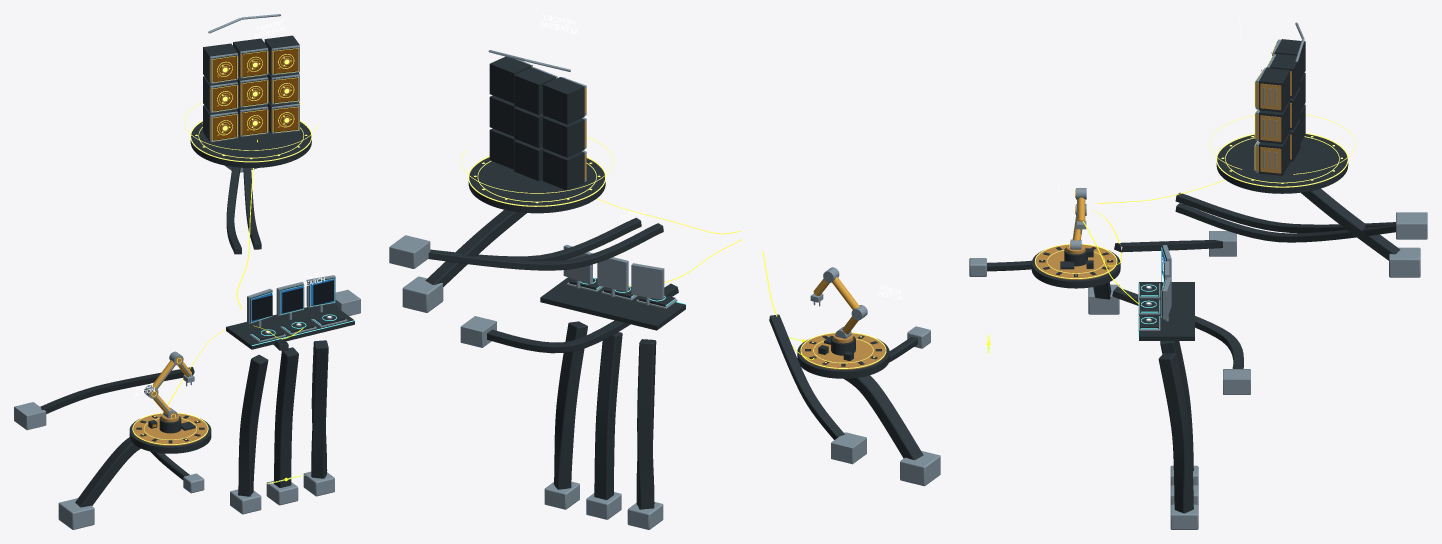
Rendered from D_alternatives.glb.
The picture shows the model from 3 angles, left to right: view 1: azimuth 30°, elevation 25°; view 2: azimuth 150°, elevation 25°; view 3: azimuth 270°, elevation 25°; orthographic projection. The views are drawn at different scales.
Visible parts, largest first — view 1: GEO-R1-TavilySearch-CantileverFoundation, GEO-R1-MemoryRetrieval-ArchiveComplex, GEO-R1-TavilySearch-RetrievalFacility, GEO-V008-MemoryArchivePlatform, GEO-R1-RobotAction-IndustrialFoundation, GEO-V013-Robot-Base, GEO-V010-ActionRearLoadYoke, GEO-V009-MemoryBridgeCantilever, GEO-V008-MemoryMachinedContacts, GEO-V010-SearchRearLoadYoke, GEO-V013-SearchState-0, GEO-V013-SearchState-1 (+1 smaller); view 2: GEO-R1-TavilySearch-CantileverFoundation, GEO-R1-MemoryRetrieval-ArchiveComplex, GEO-R1-TavilySearch-RetrievalFacility, GEO-V009-MemoryBridgeCantilever, GEO-V008-MemoryArchivePlatform, GEO-R1-RobotAction-IndustrialFoundation, GEO-V013-Robot-Base, GEO-R1-MemoryRetrieval-SuspendedFoundation, GEO-V010-SearchRearLoadYoke, GEO-V010-ActionRearLoadYoke; view 3: GEO-R1-MemoryRetrieval-ArchiveComplex, GEO-V008-MemoryArchivePlatform, GEO-V009-MemoryBridgeCantilever, GEO-R1-TavilySearch-CantileverFoundation, GEO-R1-TavilySearch-RetrievalFacility, GEO-V013-Robot-Base, GEO-R1-MemoryRetrieval-SuspendedFoundation, GEO-V010-SearchRearLoadYoke, GEO-R1-RobotAction-IndustrialFoundation, GEO-V010-ActionRearLoadYoke, GEO-V008-MemoryMachinedContacts.
Boxes of the visible parts, x1,y1,x2,y2 form: GEO-R1-TavilySearch-CantileverFoundation: [230, 340, 334, 514]; GEO-R1-MemoryRetrieval-ArchiveComplex: [203, 35, 299, 142]; GEO-R1-TavilySearch-RetrievalFacility: [226, 275, 355, 349]; GEO-V008-MemoryArchivePlatform: [184, 102, 318, 167]; GEO-R1-RobotAction-IndustrialFoundation: [58, 437, 204, 529]; GEO-V013-Robot-Base: [129, 412, 211, 453]; GEO-V010-ActionRearLoadYoke: [14, 367, 194, 430]; GEO-V009-MemoryBridgeCantilever: [226, 167, 261, 254]; GEO-V008-MemoryMachinedContacts: [209, 47, 298, 140]; GEO-V010-SearchRearLoadYoke: [273, 289, 360, 350]; GEO-V013-SearchState-0: [251, 295, 272, 320]; GEO-V013-SearchState-1: [282, 288, 303, 313]; GEO-R1-TavilySearch-CantileverFoundation: [544, 321, 663, 529]; GEO-R1-MemoryRetrieval-ArchiveComplex: [489, 56, 586, 190]; GEO-R1-TavilySearch-RetrievalFacility: [540, 244, 686, 330]; GEO-V009-MemoryBridgeCantilever: [389, 217, 663, 270]; GEO-V008-MemoryArchivePlatform: [461, 137, 613, 213]; GEO-R1-RobotAction-IndustrialFoundation: [843, 326, 940, 486]; GEO-V013-Robot-Base: [797, 332, 889, 378]; GEO-R1-MemoryRetrieval-SuspendedFoundation: [402, 50, 570, 312]; GEO-V010-SearchRearLoadYoke: [460, 283, 678, 353]; GEO-V010-ActionRearLoadYoke: [769, 314, 866, 464]; GEO-R1-MemoryRetrieval-ArchiveComplex: [1254, 39, 1305, 175]; GEO-V008-MemoryArchivePlatform: [1209, 114, 1355, 193]; GEO-V009-MemoryBridgeCantilever: [1175, 193, 1427, 242]; GEO-R1-TavilySearch-CantileverFoundation: [1158, 341, 1198, 529]; GEO-R1-TavilySearch-RetrievalFacility: [1138, 245, 1194, 340]; GEO-V013-Robot-Base: [1031, 244, 1120, 288]; GEO-R1-MemoryRetrieval-SuspendedFoundation: [1295, 22, 1420, 277]; GEO-V010-SearchRearLoadYoke: [1112, 286, 1250, 394]; GEO-R1-RobotAction-IndustrialFoundation: [969, 258, 1119, 314]; GEO-V010-ActionRearLoadYoke: [1114, 231, 1236, 256]; GEO-V008-MemoryMachinedContacts: [1255, 41, 1277, 170].
Size of the model in its own units: 125 by 155 by 131.
